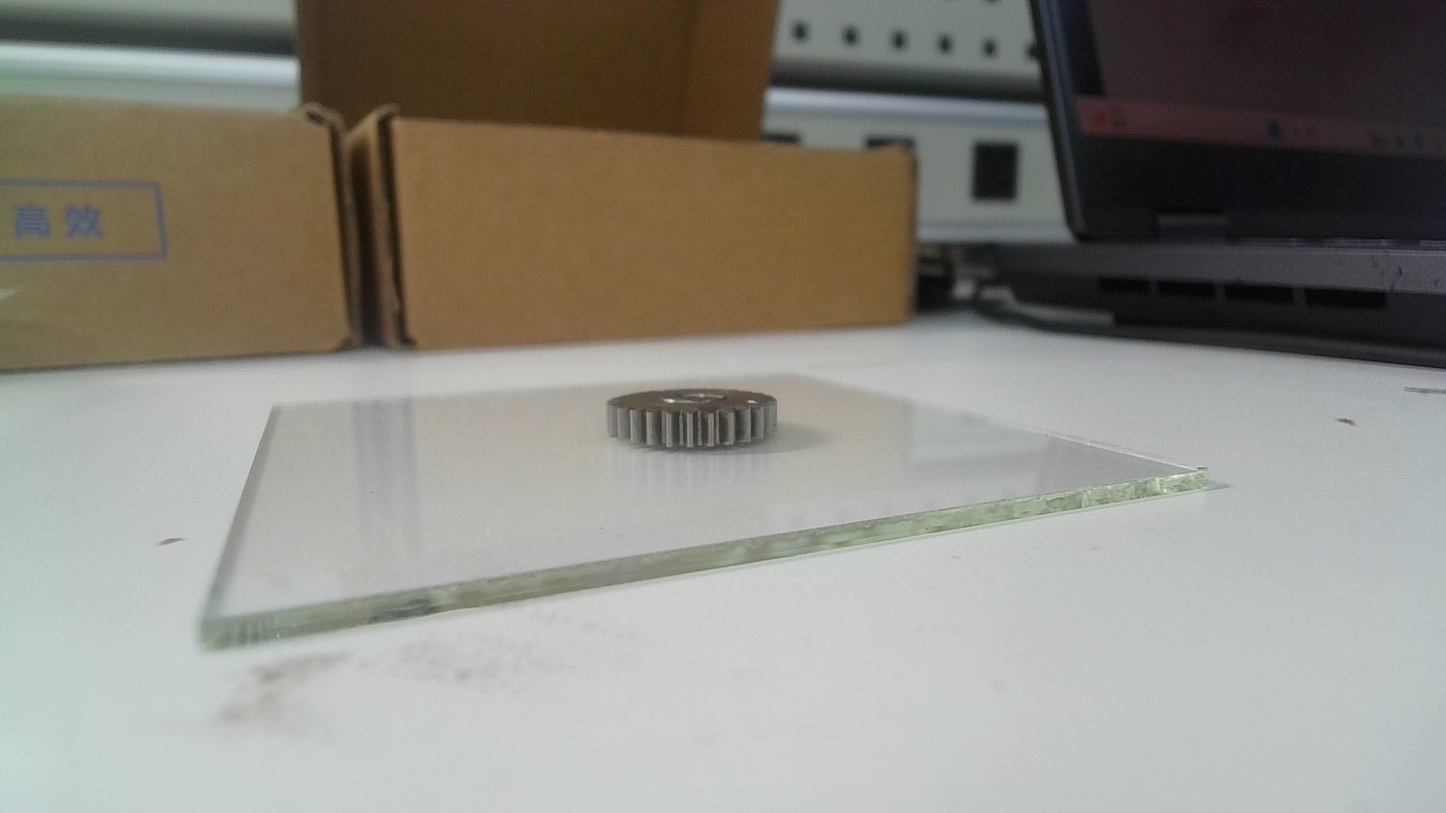gear: (604, 384, 783, 456)
